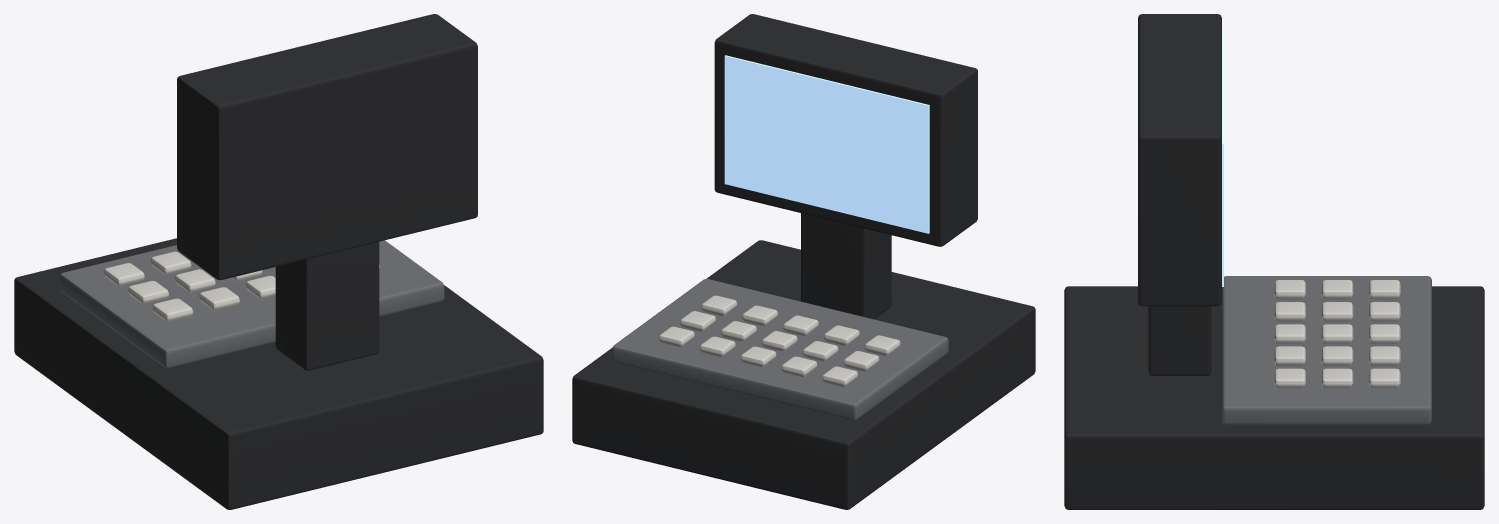
Rendered from prop_cash_register.glb.
3 renders of one model, left to right at view 1: azimuth 30°, elevation 25°; view 2: azimuth 150°, elevation 25°; view 3: azimuth 270°, elevation 25°, orthographic. The views are drawn at different scales.
Parts seen in each view (by area): view 1: Register; view 2: Register; view 3: Register.
Part boxes in pixels (box(x1,y1,x2,y2)): Register: box(14, 14, 543, 509); Register: box(572, 14, 1035, 509); Register: box(1064, 14, 1484, 509).
Size of what is drawn, in the model's own units: 0.34 by 0.38 by 0.4.
